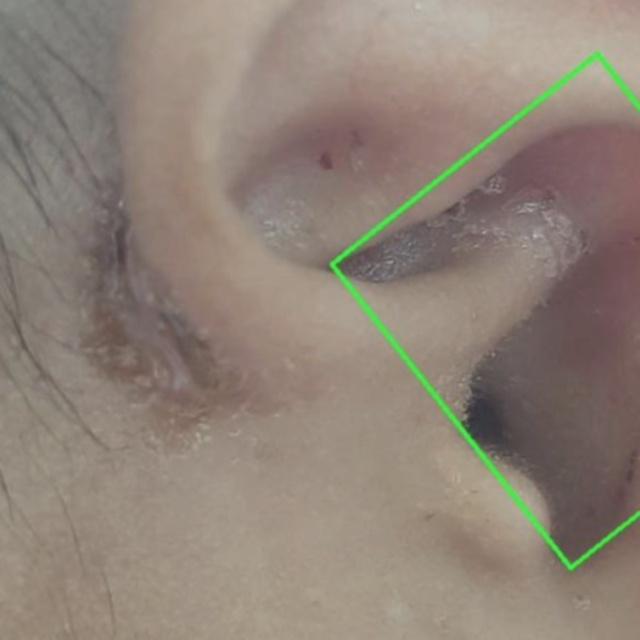Eczema: (295, 54, 639, 608)
